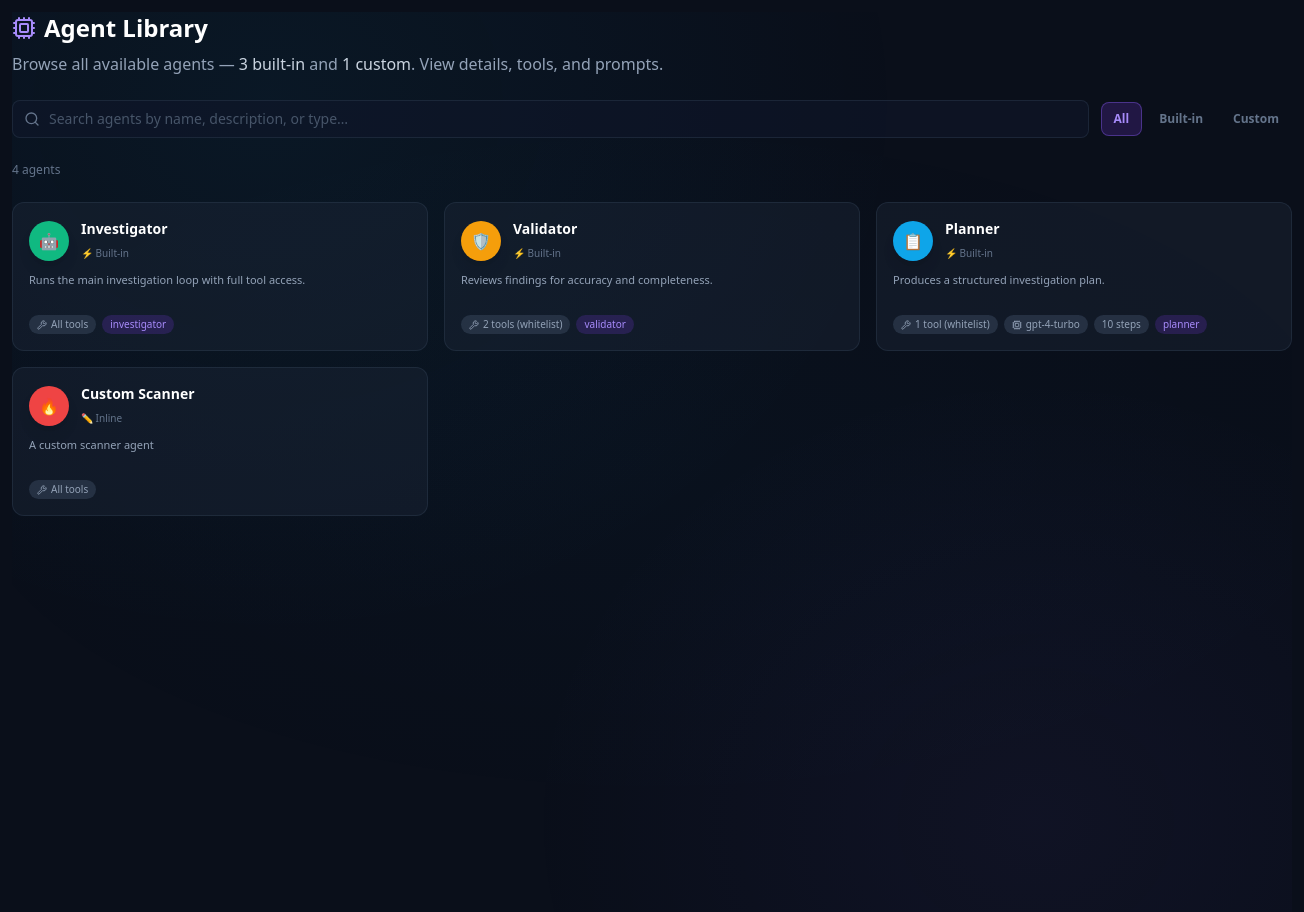
AgentLibrary › filters by Custom tab
Check: the heading "Custom Scanner" is shown, box [81,384,195,403]
Click the button "Custom".
click(1256, 119)  # box [1220,102,1292,136]
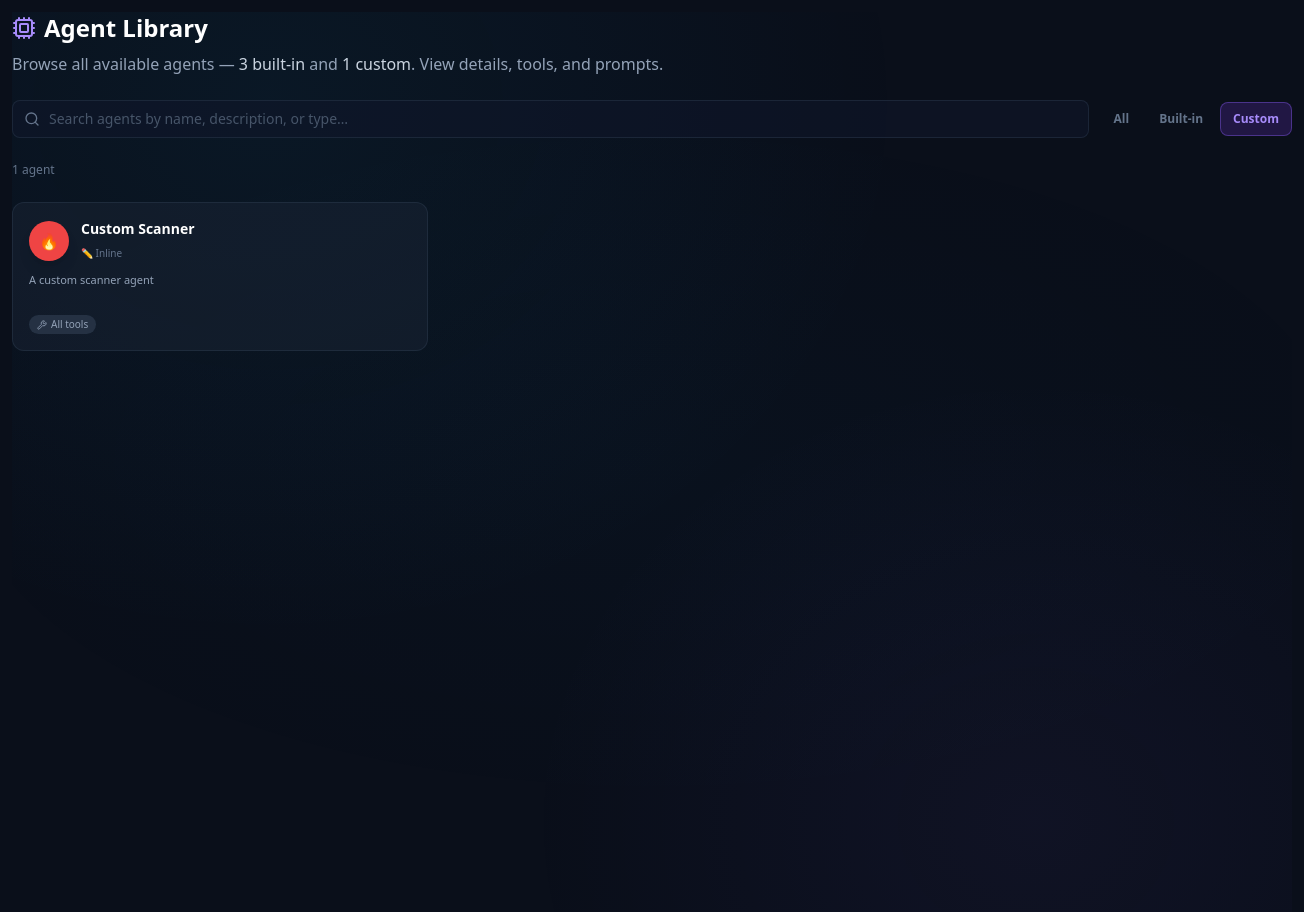
Check: the heading "Custom Scanner" is shown, box [81,219,195,238]
Check: the heading "Investigator" is gone
